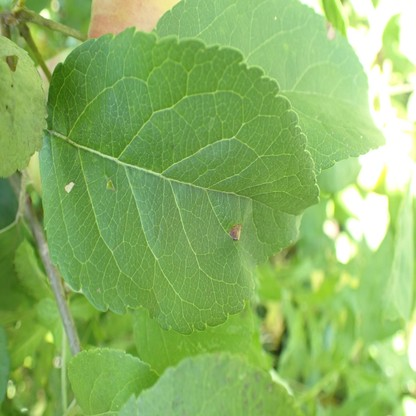frogeye_leaf_spot: (230, 223, 242, 241), (326, 21, 336, 39), (64, 181, 75, 193)
